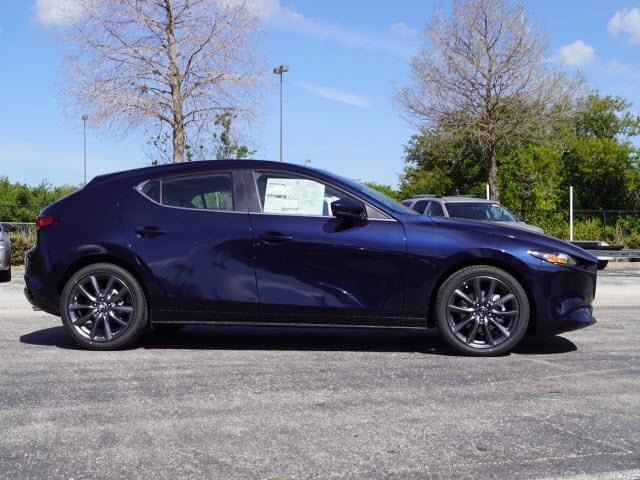Mazda3 Hatchback: (23, 159, 599, 358)
